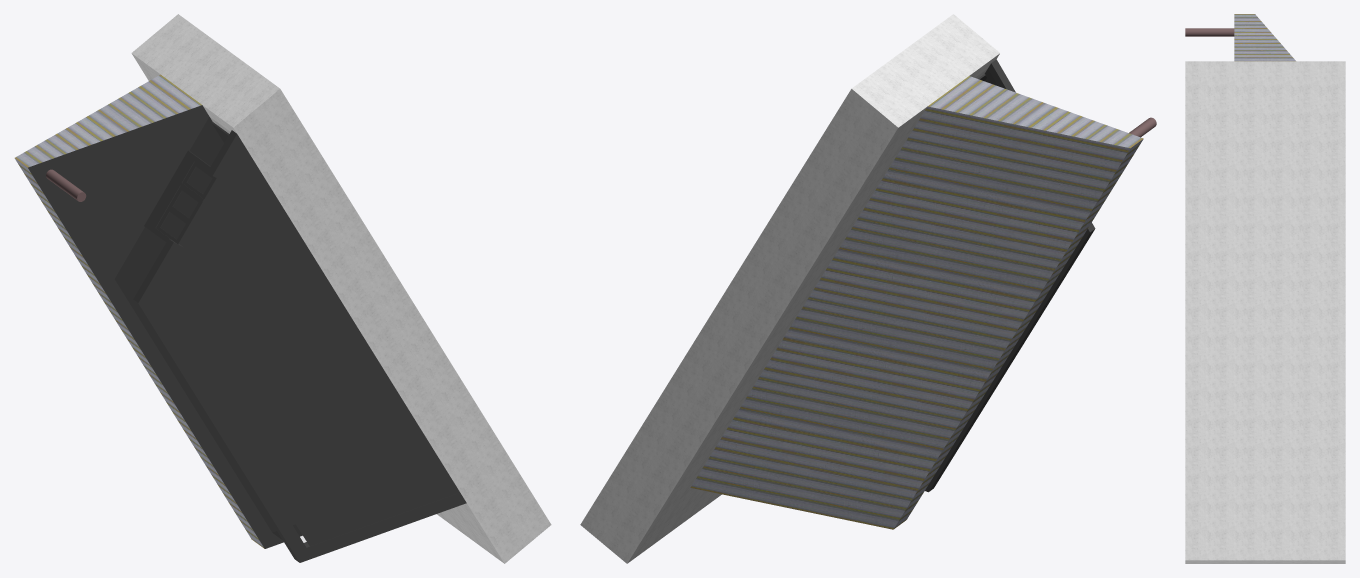
The model's file is SubwayStation.fbx.
3 renders of one model, left to right at view 1: azimuth 30°, elevation 25°; view 2: azimuth 150°, elevation 25°; view 3: azimuth 270°, elevation 25°, orthographic. The views are drawn at different scales.
Parts seen in each view (by area): view 1: Dark, Concrete, Roof; view 2: Roof, Concrete, Dark; view 3: Concrete, Roof, Column.
Boxes of the visible parts, x1,y1,x2,y2 form: Dark: (28, 105, 466, 562); Concrete: (131, 14, 551, 563); Roof: (14, 74, 264, 548); Roof: (690, 76, 1143, 529); Concrete: (580, 14, 999, 563); Dark: (925, 59, 1095, 492); Concrete: (1185, 61, 1345, 563); Roof: (1234, 14, 1295, 61); Column: (1185, 28, 1234, 36).
Size of the model in its own units: 320 by 115 by 329.
Materials: 5 (2 with a texture image).
